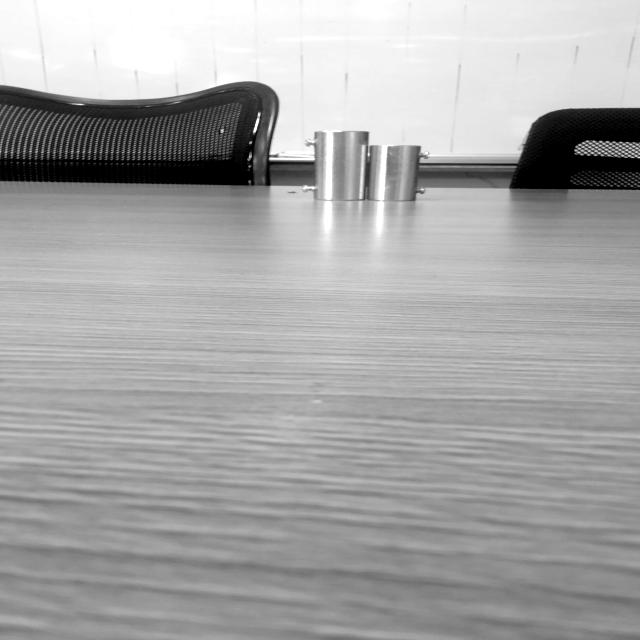Co_Lon: (314, 131, 368, 201)
Co_Nho: (369, 145, 430, 202)
